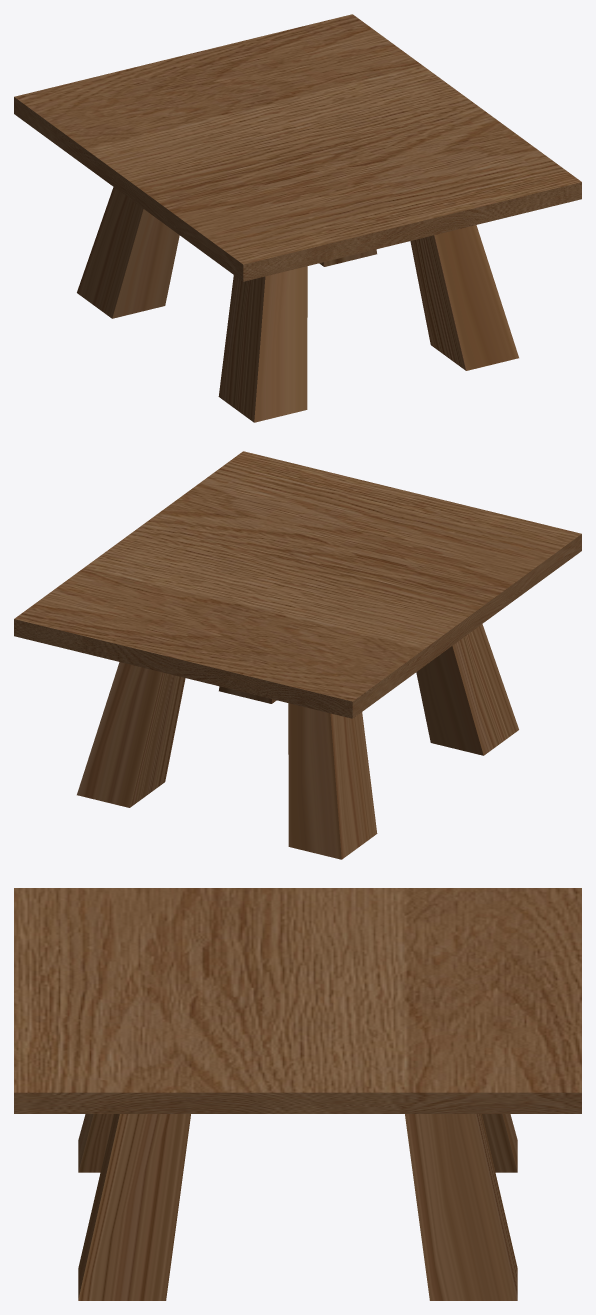
File: Mesagcw.glb
The picture shows the model from 3 angles, top to bottom: view 1: azimuth 30°, elevation 25°; view 2: azimuth 150°, elevation 25°; view 3: azimuth 270°, elevation 25°; orthographic projection. The views are drawn at different scales.
Visible parts, largest first — view 1: Cube; view 2: Cube; view 3: Cube.
Boxes of the visible parts, bbox=[...] form: Cube: bbox=[14, 14, 581, 422]; Cube: bbox=[14, 451, 581, 859]; Cube: bbox=[14, 888, 581, 1300].
Size of the model in its own units: 2.77 by 1.45 by 3.25.
Materials: 1 (1 with a texture image).
